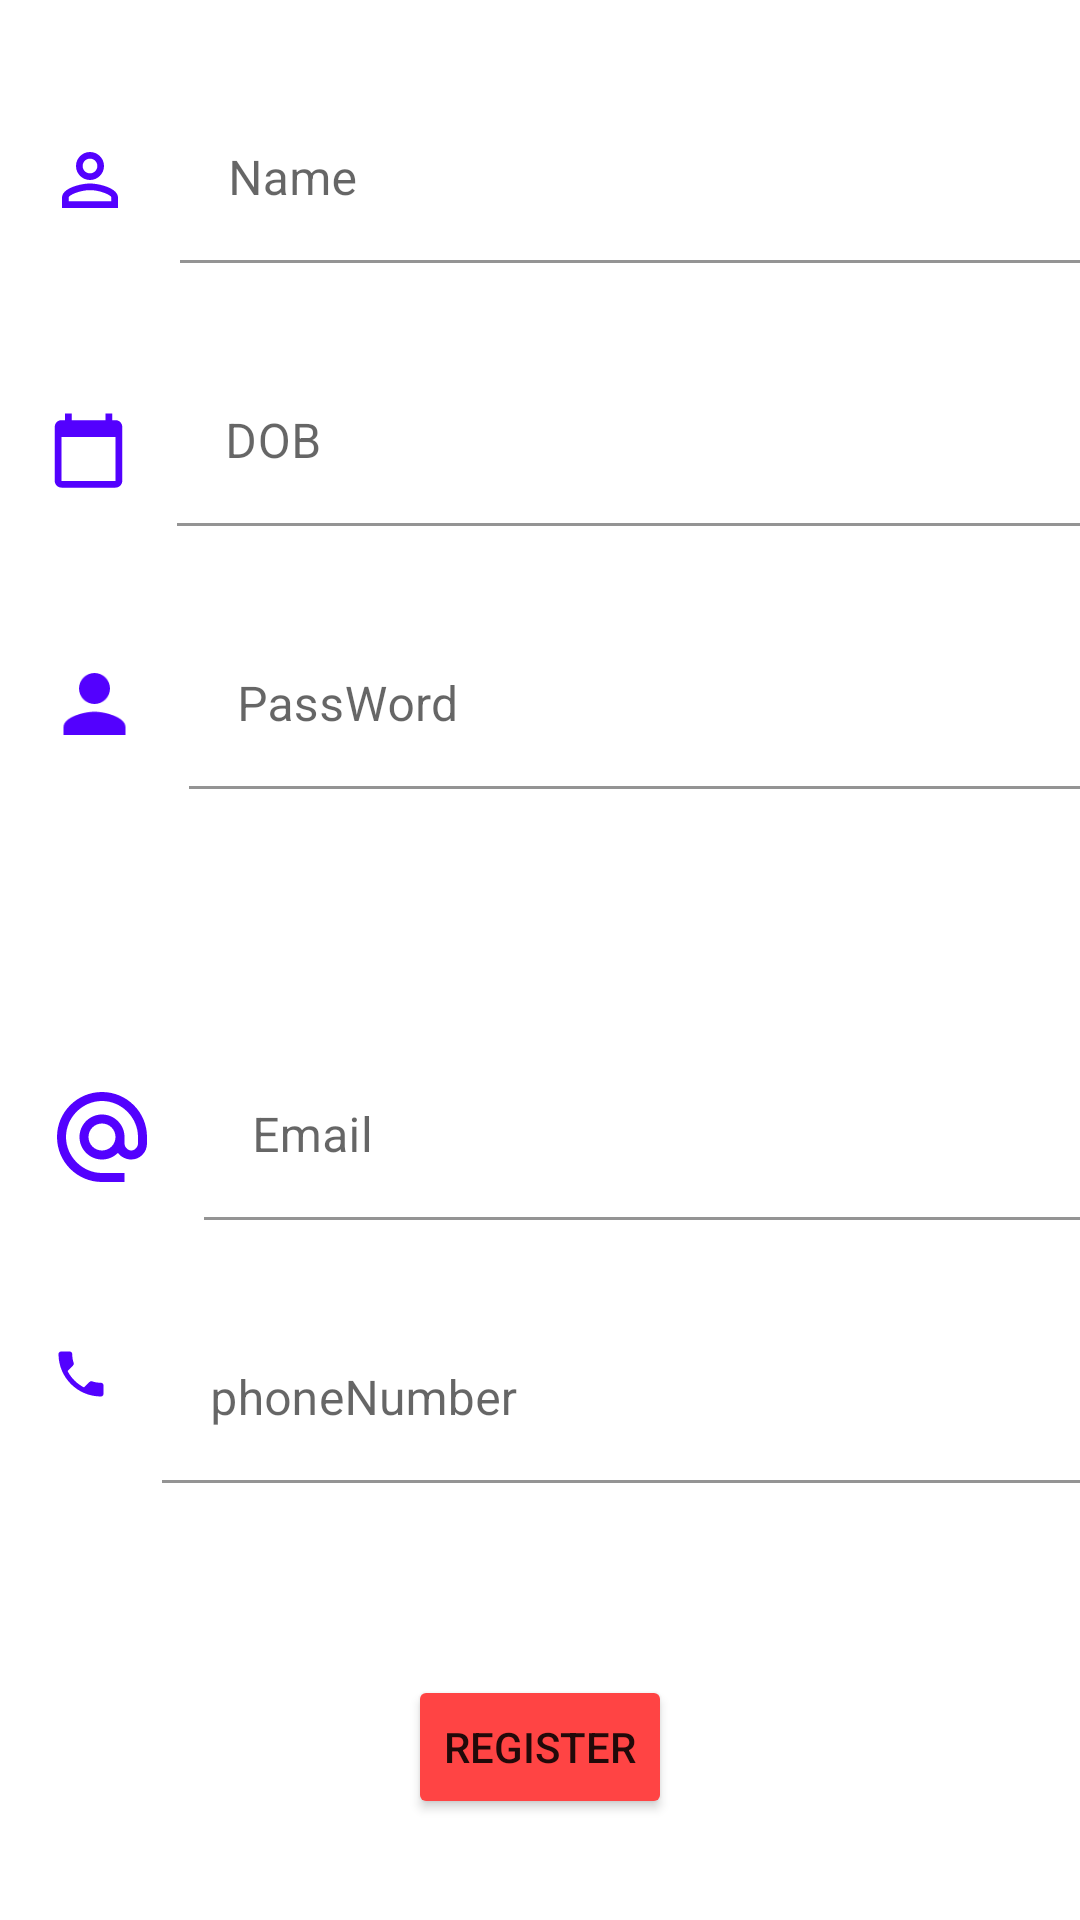

Where icons sit on this 1080px x 1920px app screen, as (x1, y1, x2, y2):
calendar today: (54, 413, 123, 488)
local phone: (58, 1351, 104, 1397)
perm identity: (62, 152, 118, 208)
person: (63, 673, 126, 735)
